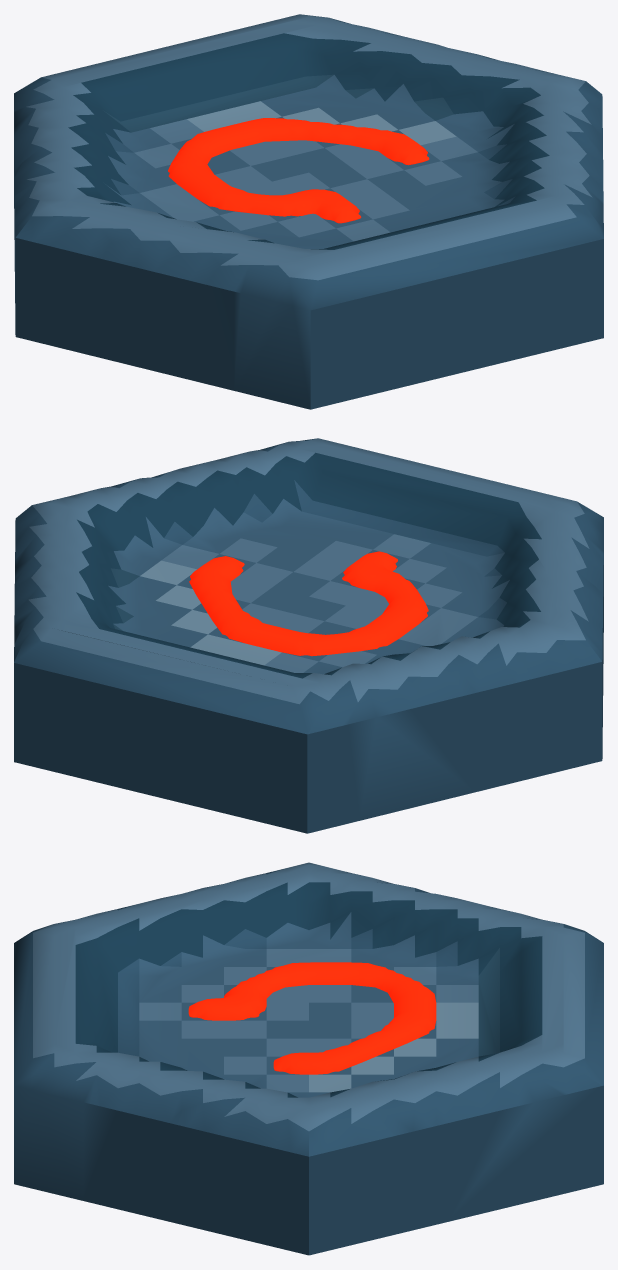
Rendered from fruit_glyph_hook.glb.
3 renders of one model, top to bottom at view 1: azimuth 30°, elevation 25°; view 2: azimuth 150°, elevation 25°; view 3: azimuth 270°, elevation 25°, orthographic.
Visible parts, largest first — view 1: socket, glyph; view 2: socket, glyph; view 3: socket, glyph.
Boxes of the visible parts, left/top/right/bottom form: socket: left=14, top=14, right=603, bottom=409; glyph: left=168, top=118, right=429, bottom=223; socket: left=14, top=438, right=603, bottom=833; glyph: left=189, top=551, right=428, bottom=656; socket: left=14, top=862, right=603, bottom=1255; glyph: left=188, top=962, right=436, bottom=1074.
Bounding box in the file's own units: 15.89 × 3.2 × 13.9.
